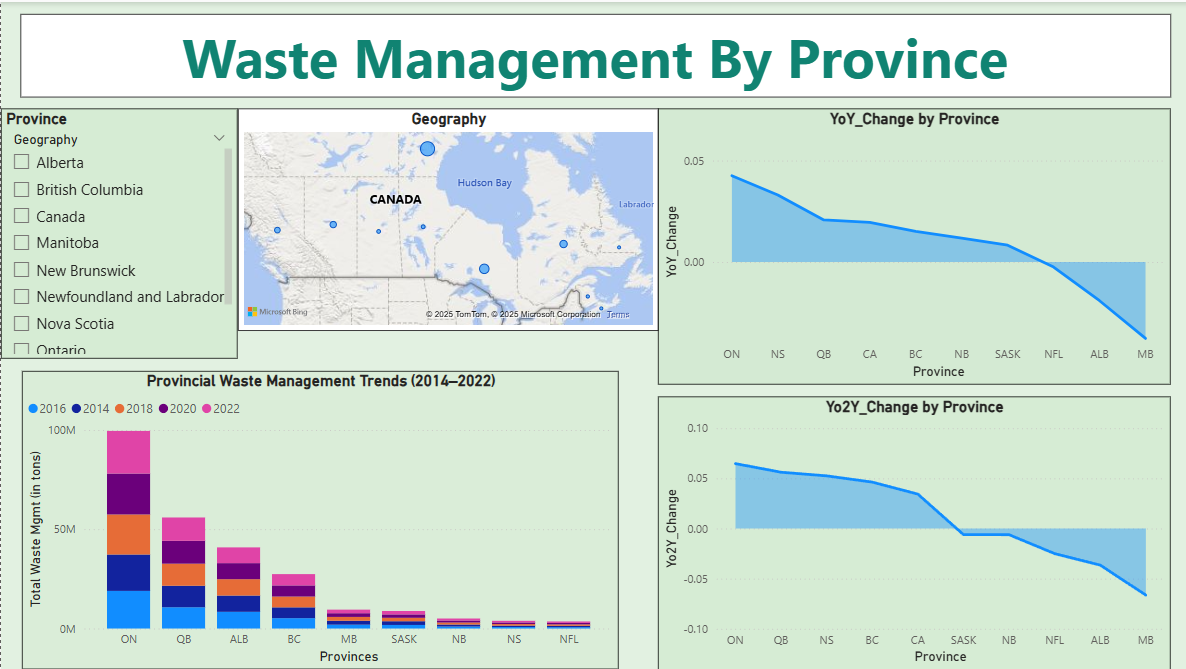

The page's visual inventory and layout, read from the dashboard file:
{"tool":"powerbi","page":{"name":"Waste Management","canvas":[1280,720],"ordinal":5},"visuals":[{"type":"map","title":"Geography","fields":{"Category":["disposal_of_waste.Geography"],"Size":["Sum(disposal_of_waste.2022)"]},"box":[255.2,115.3,454.2,240.1],"z":0},{"type":"slicer","title":"Province","fields":{"Values":["disposal_of_waste.Geography"]},"box":[0,115.3,255.2,270.3],"z":1000},{"type":"columnChart","title":"Provincial Waste Management Trends (2014–2022)","fields":{"Category":["disposal_of_waste.Province"],"Y":["Sum(disposal_of_waste.2016)","Sum(disposal_of_waste.2014)","Sum(disposal_of_waste.2018)","Sum(disposal_of_waste.2020)","Sum(disposal_of_waste.2022)"]},"box":[22,398,644,322],"z":2000},{"type":"areaChart","fields":{"Category":["disposal_of_waste.Province"],"Y":["disposal_of_waste.MoM_Change"]},"box":[709.4,115.3,553,297.8],"z":3000},{"type":"areaChart","fields":{"Y":["disposal_of_waste.Mo2M_Change"],"Category":["disposal_of_waste.Province"]},"box":[709.4,425.4,553,295],"z":4000},{"type":"textbox","box":[21.7,13.3,1241.7,90],"z":5000}]}

Visuals, with their boxes in screenshot pixels (x1, y1, x2, y2), scaled from the page's 1280x720 canvas onto the 1186x669 screenshot:
"Geography" map: pyautogui.locateOnScreen(236, 107, 657, 330)
"Province" slicer: pyautogui.locateOnScreen(0, 107, 236, 358)
"Provincial Waste Management Trends (2014–2022)" columnChart: pyautogui.locateOnScreen(20, 370, 617, 668)
areaChart - disposal_of_waste.Province x disposal_of_waste.MoM_Change: pyautogui.locateOnScreen(657, 107, 1170, 384)
areaChart - disposal_of_waste.Mo2M_Change x disposal_of_waste.Province: pyautogui.locateOnScreen(657, 395, 1170, 668)
textbox: pyautogui.locateOnScreen(20, 12, 1171, 96)
